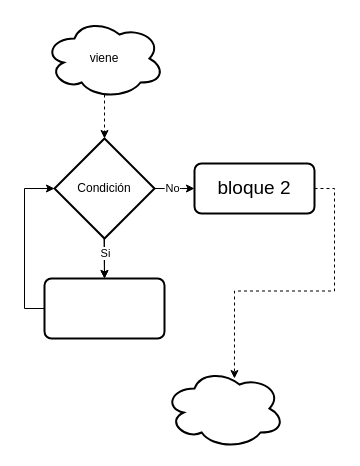
Image size: 360x466. Some labels were removed from this diagram. Each missing label, with the centre of its shape:
"bloque 1" belongs at (104,308).
"sigue" belongs at (224,408).
